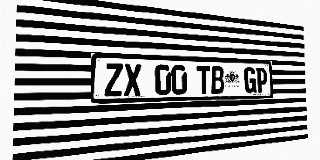0: (155, 64, 171, 95), (171, 65, 186, 95)
B: (211, 66, 224, 94)
G: (244, 67, 256, 93)
P: (256, 67, 267, 93)
T: (197, 66, 211, 94)
X: (124, 64, 141, 96)
Z: (104, 63, 123, 97)
